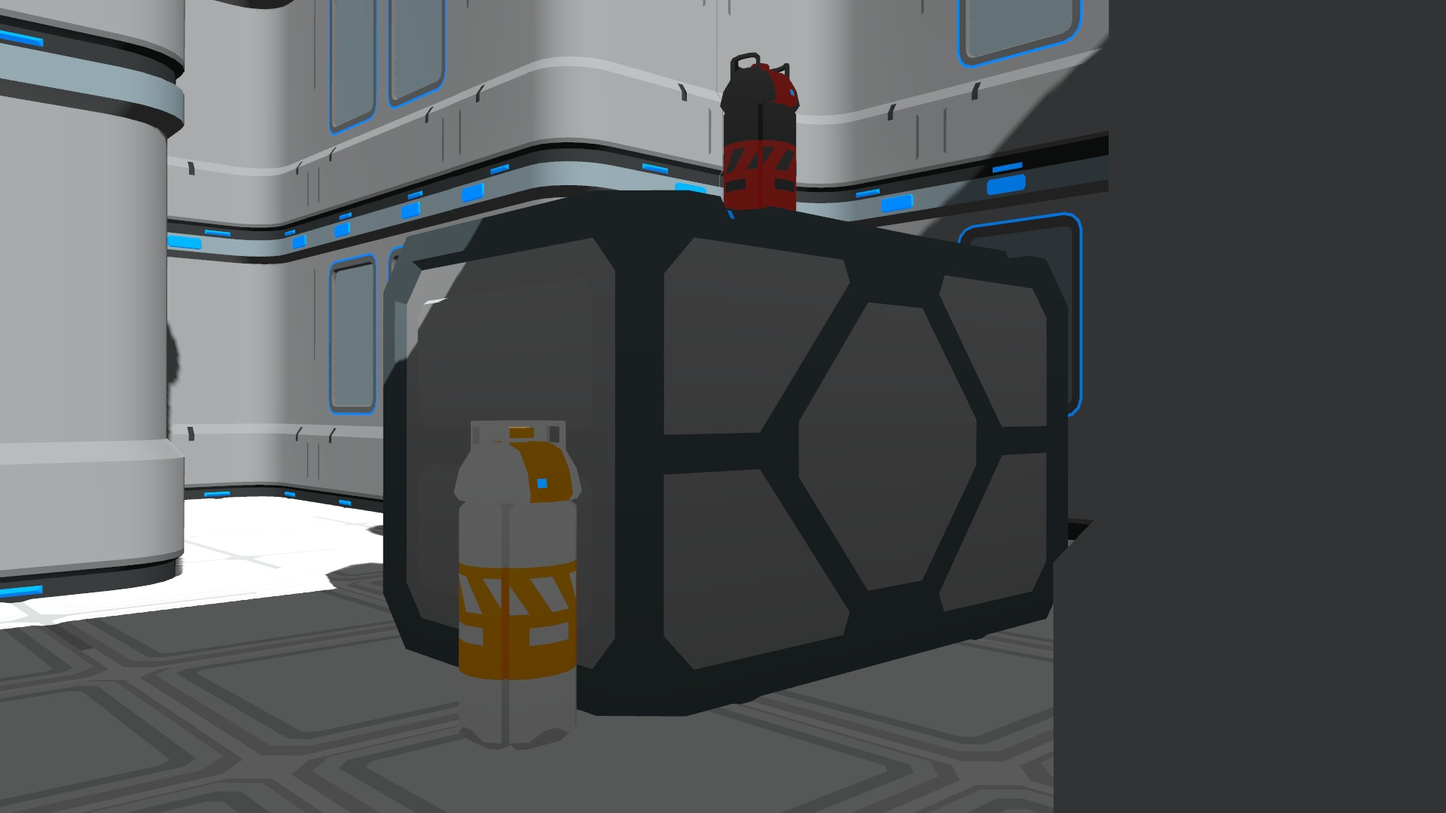red_barrel: (718, 47, 801, 221)
yellow_barrel: (450, 408, 581, 756)
